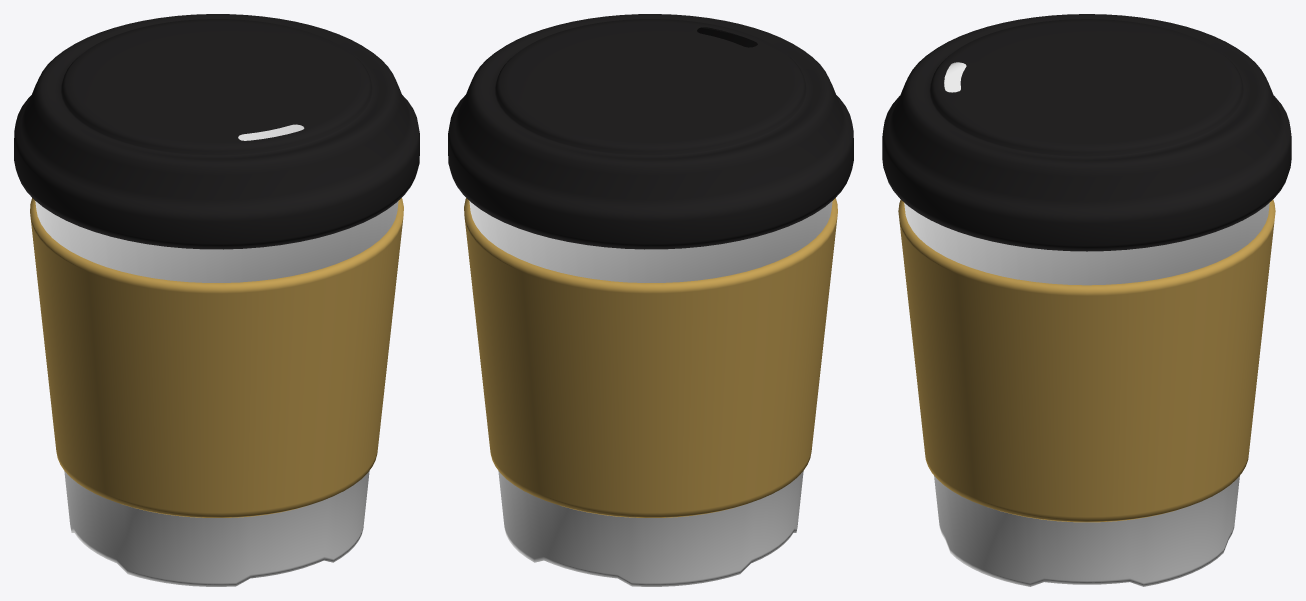
The model's file is coffee.glb.
3 views of the same model, side by side, from view 1: azimuth 30°, elevation 25°; view 2: azimuth 150°, elevation 25°; view 3: azimuth 270°, elevation 25° (orthographic).
Parts seen in each view (by area): view 1: Circle.002_0; view 2: Circle.002_0; view 3: Circle.002_0.
Part boxes in pixels (x1,y1,x2,y2): Circle.002_0: (14,14,419,586); Circle.002_0: (448,14,853,586); Circle.002_0: (882,14,1291,586).
Bounding box in the file's own units: 2.34 × 2.82 × 2.34.
